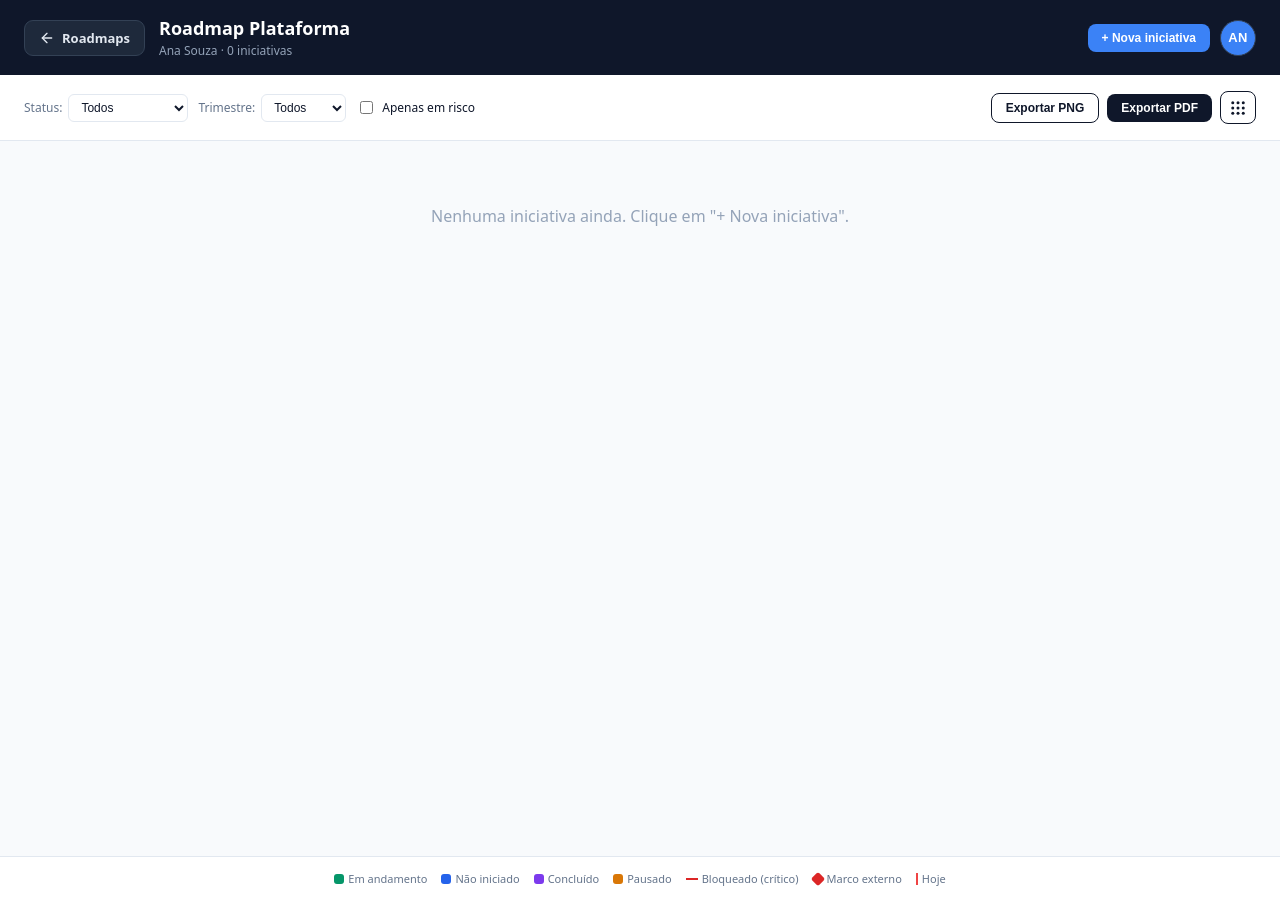
Test: RoadmapView › mostra controles de edição quando o usuário é o dono
Expected: the button "+ Nova iniciativa" is shown, left=1088, top=24, right=1210, bottom=52
Note: As ações do roadmap ficam dentro do menu suspenso ao lado de "Exportar PDF".
Click the button named "Ações" at (1238, 108), box left=1220, top=91, right=1256, bottom=124
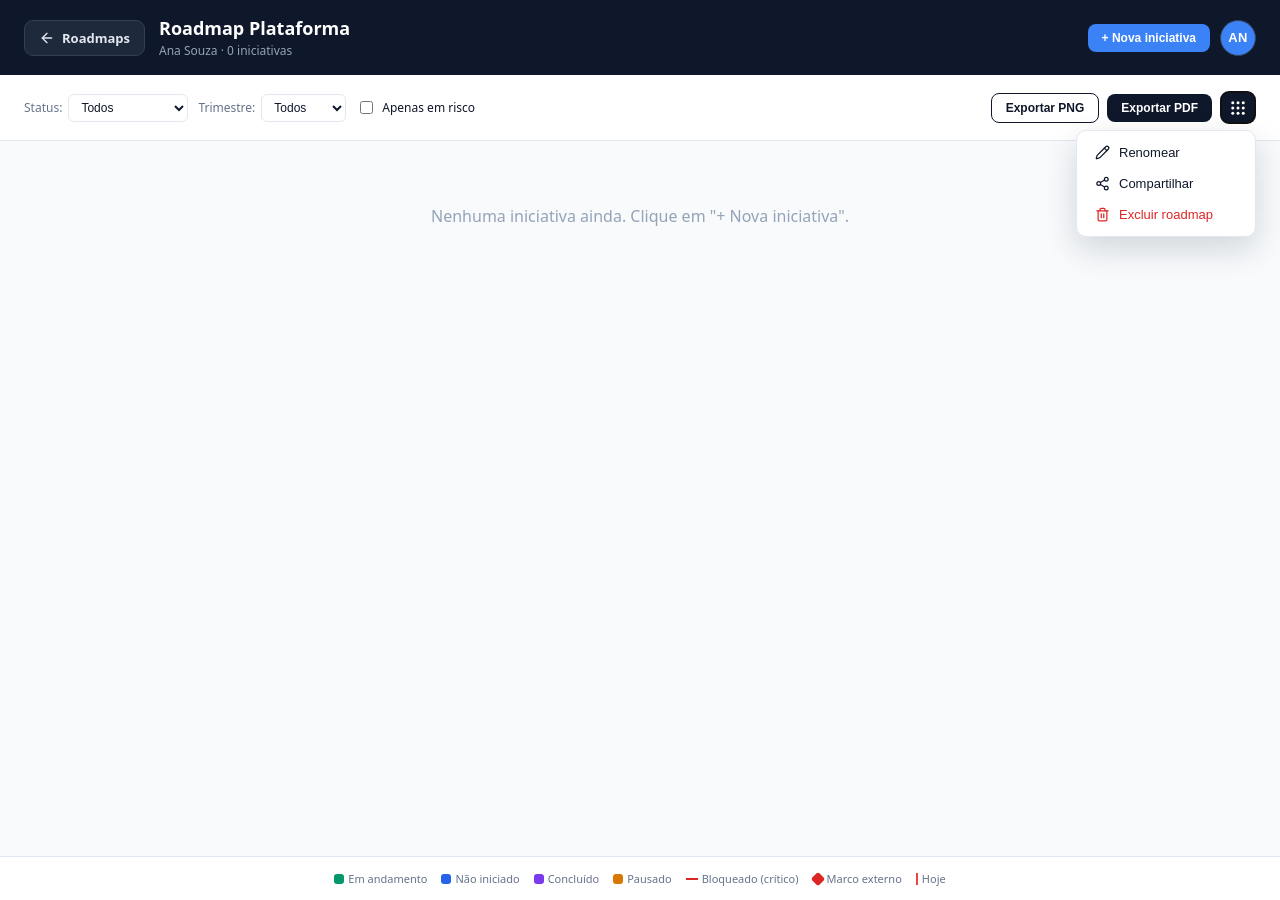
Expected: the menu item "Renomear" is shown, left=1083, top=137, right=1249, bottom=168
Expected: the menu item "Compartilhar" is shown, left=1083, top=168, right=1249, bottom=199
Expected: the menu item "Excluir roadmap" is shown, left=1083, top=199, right=1249, bottom=230
